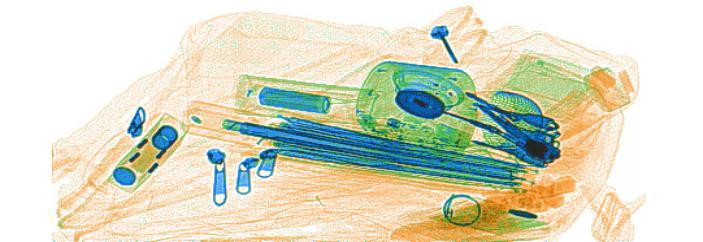battery: (256, 86, 333, 112)
